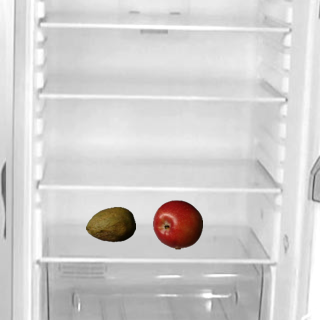Apple Braeburn: (152, 199, 202, 249)
Papaya: (85, 199, 135, 249)
